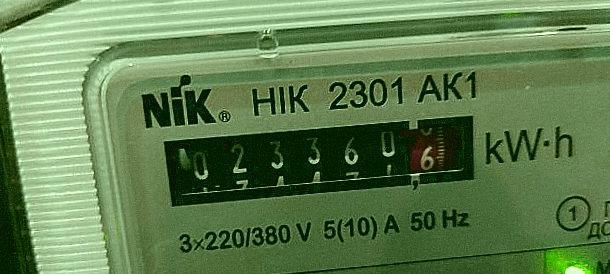0: (187, 146, 211, 181), (377, 126, 397, 158)
2: (225, 140, 251, 176)
3: (263, 137, 287, 170), (302, 132, 323, 165)
6: (338, 132, 361, 166), (414, 140, 437, 171)
screen: (143, 95, 493, 223)
